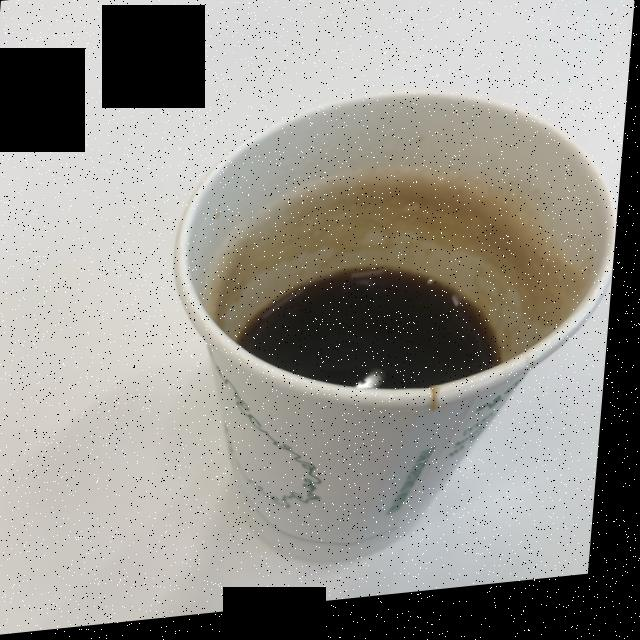espresso-with-caffeine: (245, 266, 513, 397)
